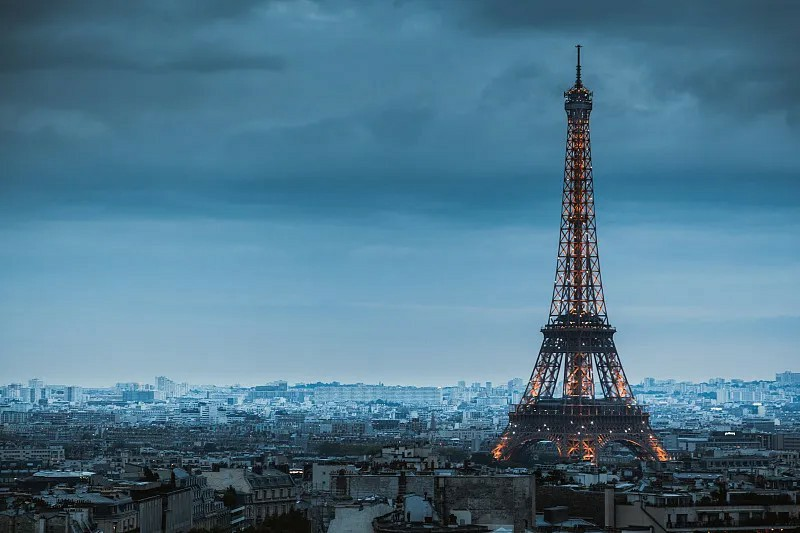Eiffel: (491, 44, 671, 466)
